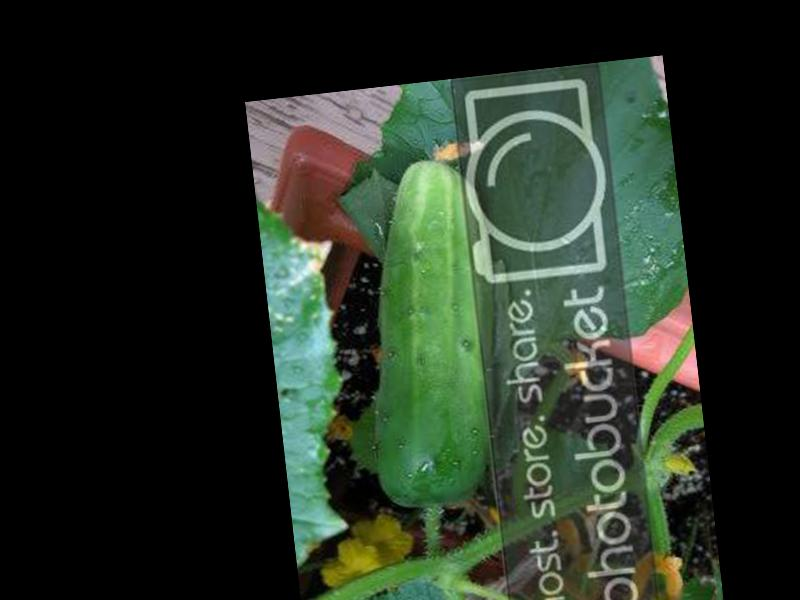Cucumber: (342, 151, 518, 509)
